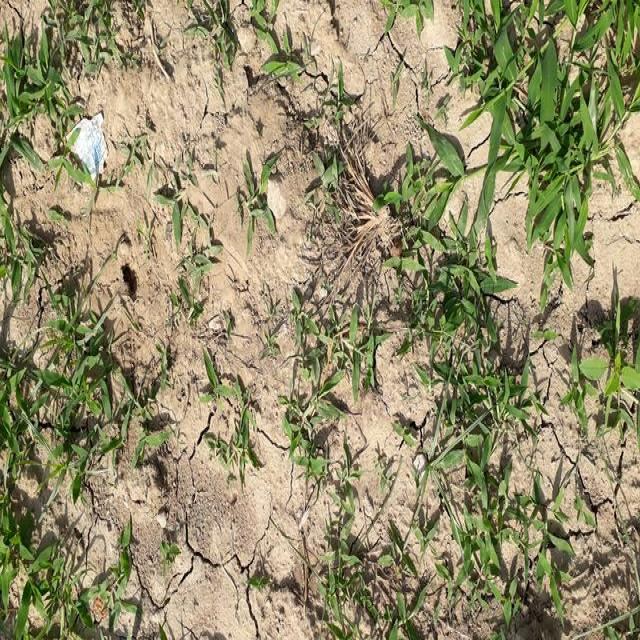weed: (372, 222, 584, 640), (400, 5, 640, 210), (7, 325, 162, 640), (0, 0, 66, 291)
